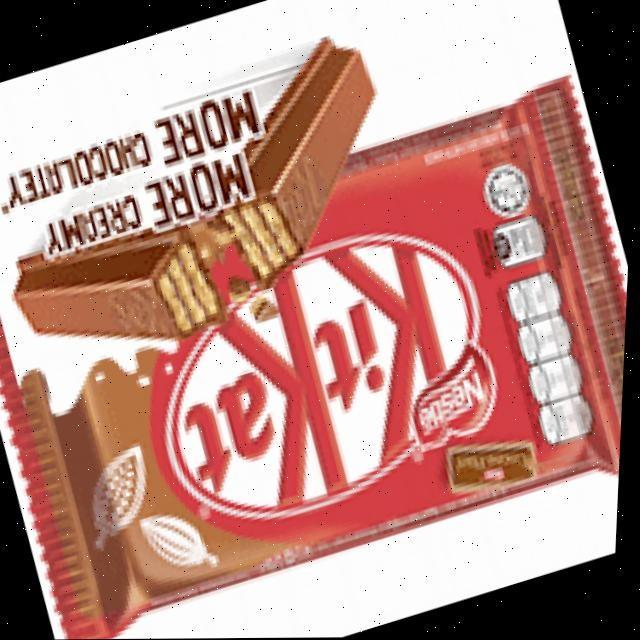kitkat_chocolate: (76, 93, 558, 640)
